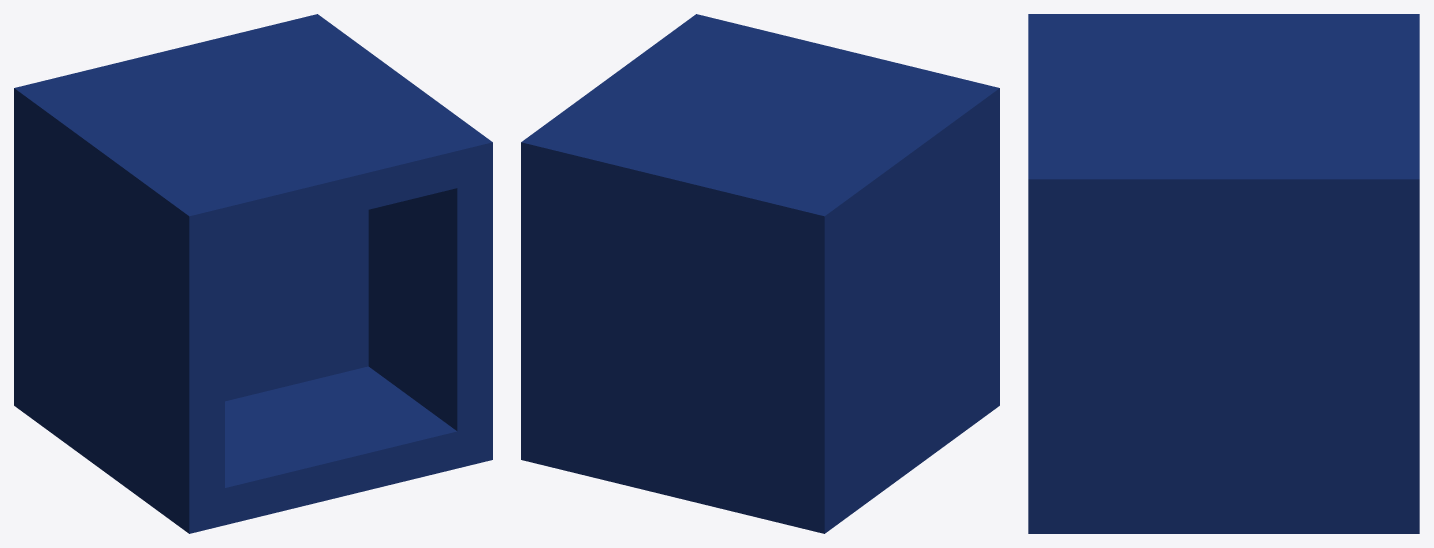
File: animetion-name.glb
The picture shows the model from 3 angles, left to right: view 1: azimuth 30°, elevation 25°; view 2: azimuth 150°, elevation 25°; view 3: azimuth 270°, elevation 25°; orthographic projection. The views are drawn at different scales.
Parts seen in each view (by area): view 1: Cube; view 2: Cube; view 3: Cube.
Boxes of the visible parts, bbox=[...] form: Cube: bbox=[14, 14, 492, 533]; Cube: bbox=[521, 14, 999, 533]; Cube: bbox=[1028, 14, 1419, 533].
Size of what is drawn, in the model's own units: 2 by 2 by 2.
